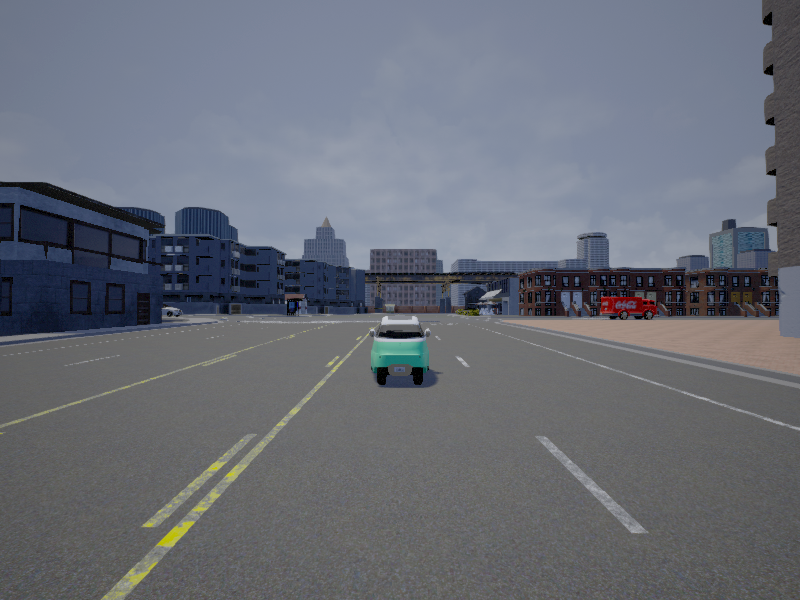Benign: (371, 316, 432, 385), (602, 297, 658, 320)
